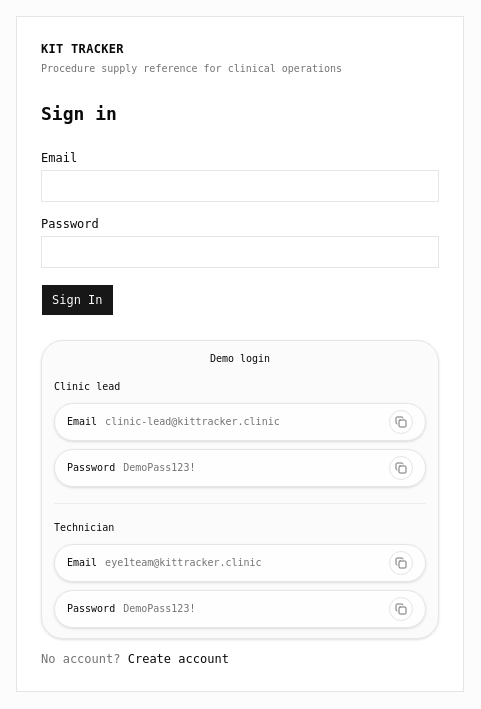
Login › submit button is disabled while request is in-flight
The image size is (481, 709).
In the field labelled "Email": (240, 186) x1=41 y1=170 x2=439 y2=202, type "test@example.com"
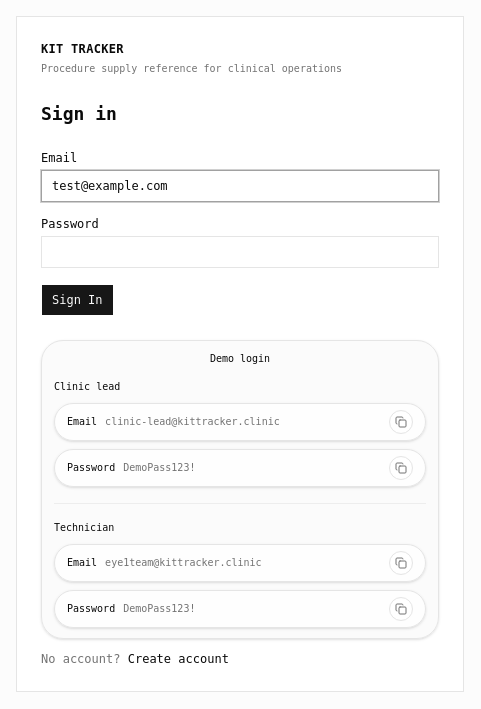
In the password field labelled "Password": (240, 252) x1=41 y1=236 x2=439 y2=268, type "password123"
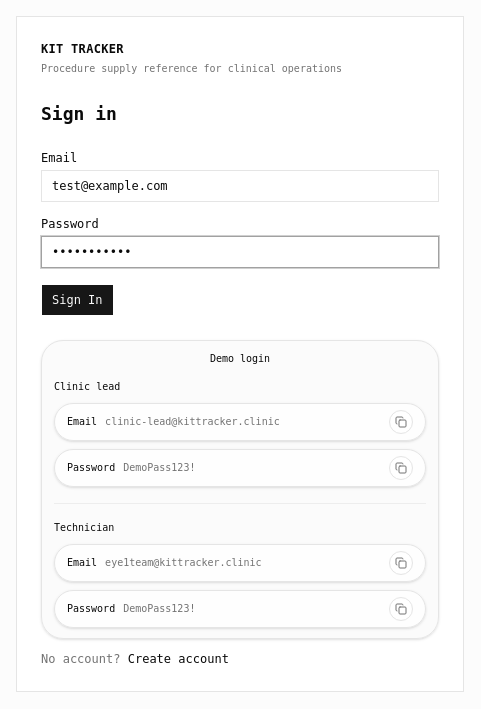
Click the button "Sign In": (77, 300) x1=41 y1=284 x2=114 y2=316
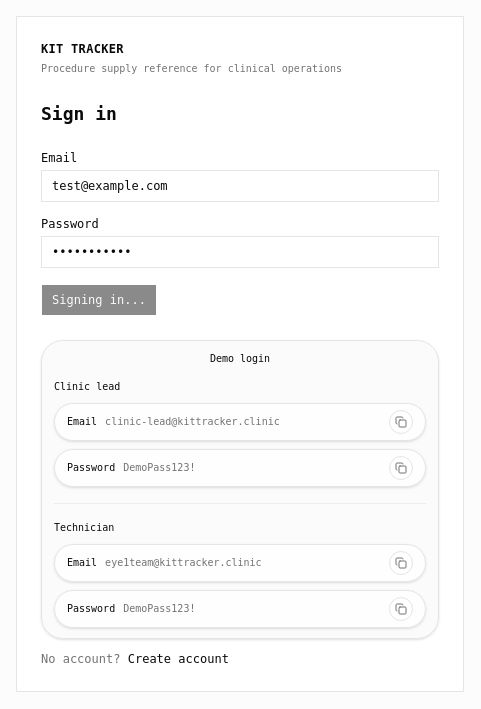
Expected: the button "Signing in..." is disabled, x1=41 y1=284 x2=157 y2=316
